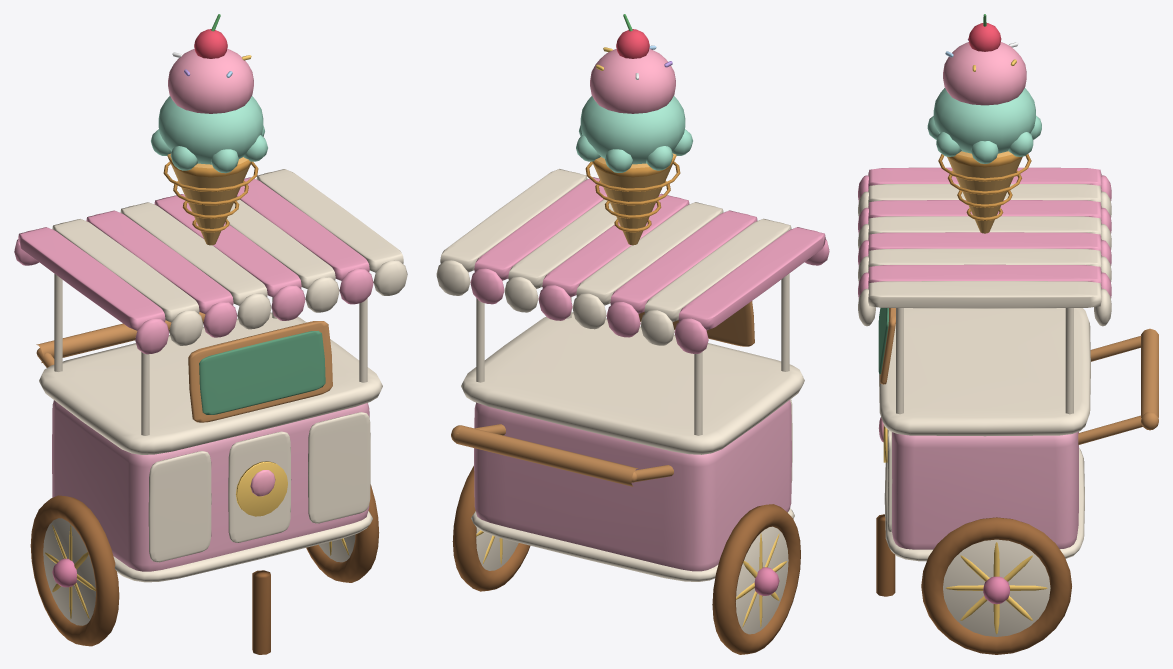
The model's file is icecream_cart.glb.
3 views of the same model, side by side, from view 1: azimuth 30°, elevation 25°; view 2: azimuth 150°, elevation 25°; view 3: azimuth 270°, elevation 25° (orthographic). The views are drawn at different scales.
Visible parts, largest first — view 1: icecream_cart; view 2: icecream_cart; view 3: icecream_cart.
Part boxes in pixels (left/top/right/bottom): icecream_cart: left=14, top=14, right=407, bottom=654; icecream_cart: left=436, top=14, right=829, bottom=654; icecream_cart: left=858, top=14, right=1158, bottom=654.
Size of the model in its own units: 1.44 by 2.73 by 1.28.
1 material, 1 textured.
